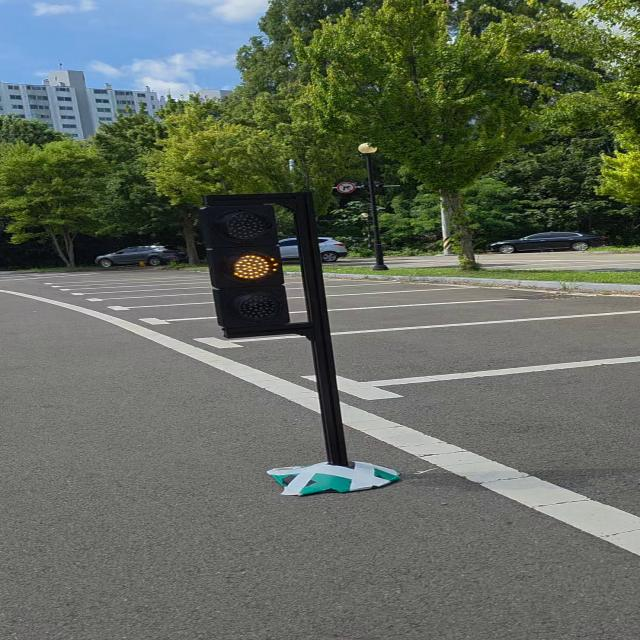yellow: (190, 192, 298, 339)
